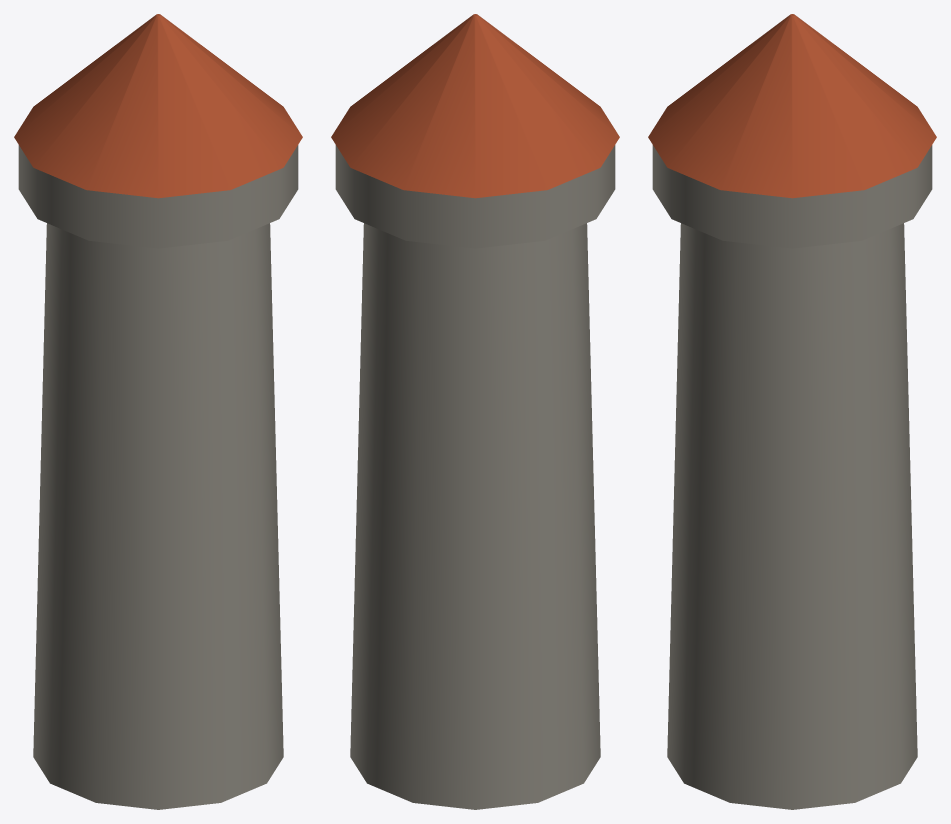
The model's file is bld_special_tower_a04.glb.
3 views of the same model, side by side, from view 1: azimuth 30°, elevation 25°; view 2: azimuth 150°, elevation 25°; view 3: azimuth 270°, elevation 25° (orthographic).
Visible parts, largest first — view 1: body; view 2: body; view 3: body.
Part boxes in pixels (<box>): body: <box>14,14,302,809</box>; body: <box>331,14,619,809</box>; body: <box>648,14,936,809</box>.
Size of what is drawn, in the model's own units: 6 by 17 by 6.
